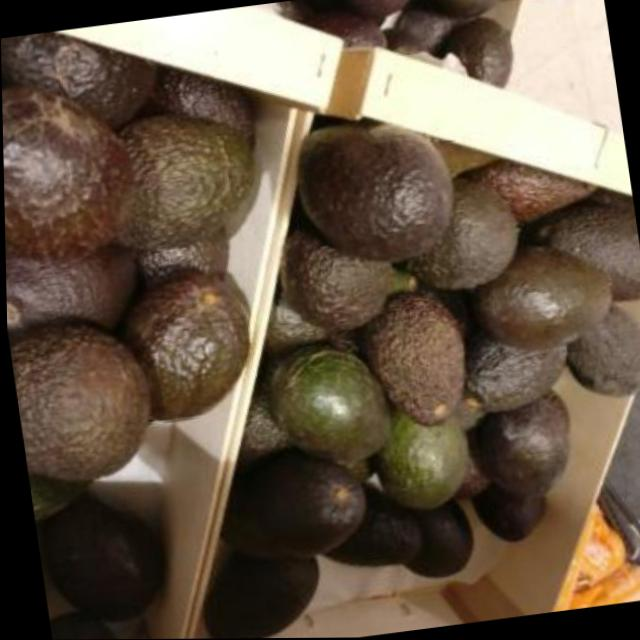Avocado: (96, 265, 265, 437), (1, 68, 144, 267), (282, 109, 457, 270), (102, 106, 276, 257), (6, 319, 159, 488), (223, 437, 371, 572), (467, 245, 624, 366), (255, 341, 391, 480), (377, 179, 520, 310), (356, 282, 477, 435), (451, 322, 581, 426), (462, 393, 580, 506), (368, 397, 473, 516)
